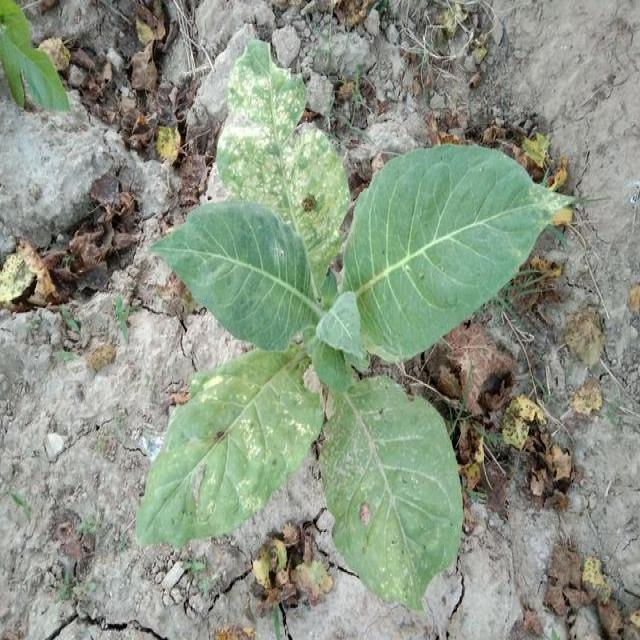crop: (142, 41, 572, 621)
